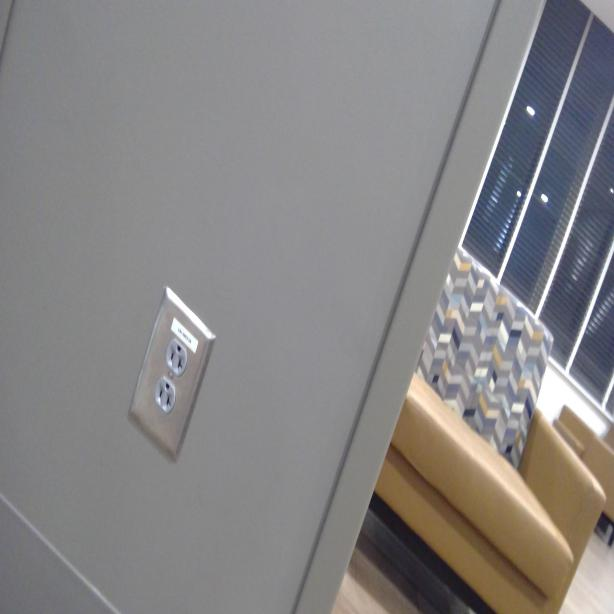typeb: (154, 376, 177, 412), (165, 343, 186, 375)
